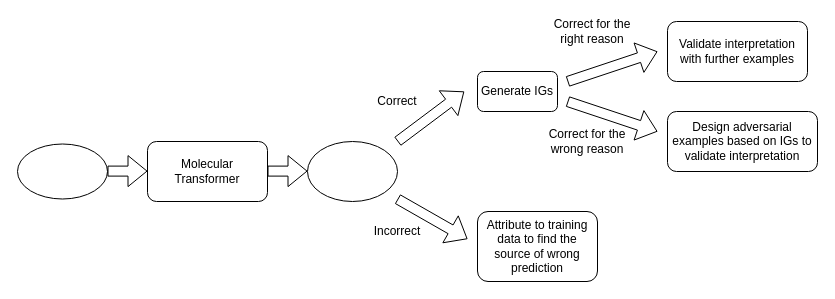
This 835x299 diagram has some shape labels left out. The shapes that lost their labels are listed below. From the top down, each one's box as (x1, y1, x2, y2) in pixels, then its label:
(16, 143, 108, 199): Input reaction
(306, 140, 398, 202): Predicted product
